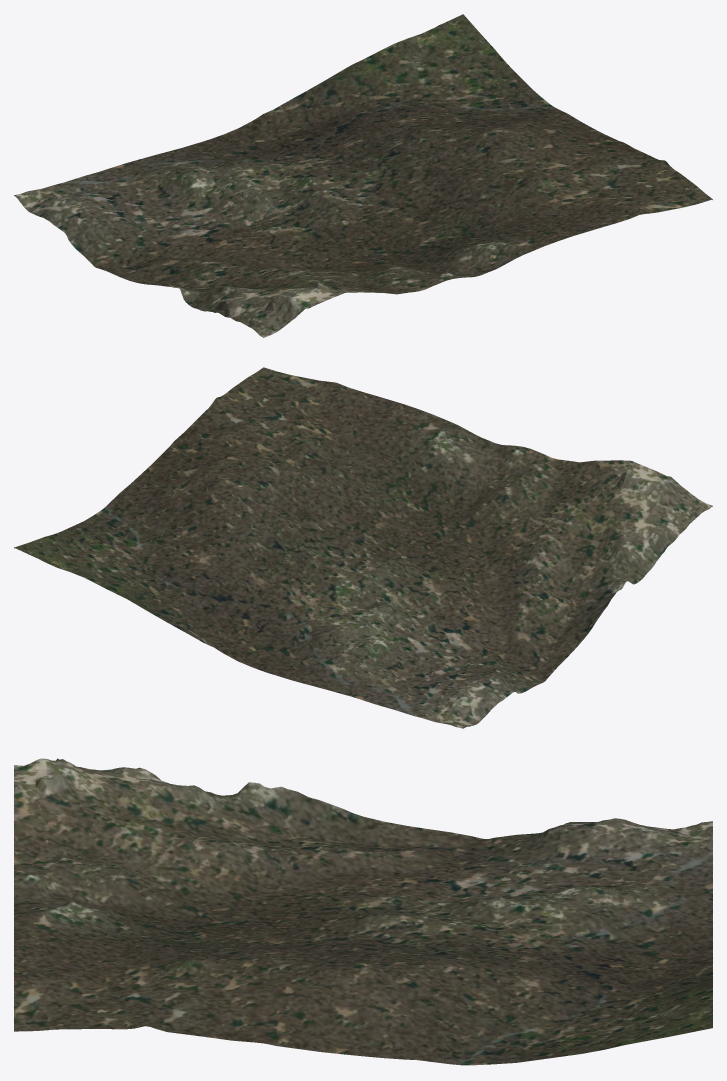
3 views of the same model, one above another, from view 1: azimuth 30°, elevation 25°; view 2: azimuth 150°, elevation 25°; view 3: azimuth 270°, elevation 25° (orthographic). The views are drawn at different scales.
Bounding box in the file's own units: 500 × 91.99 × 481.
1 material, 1 textured.
